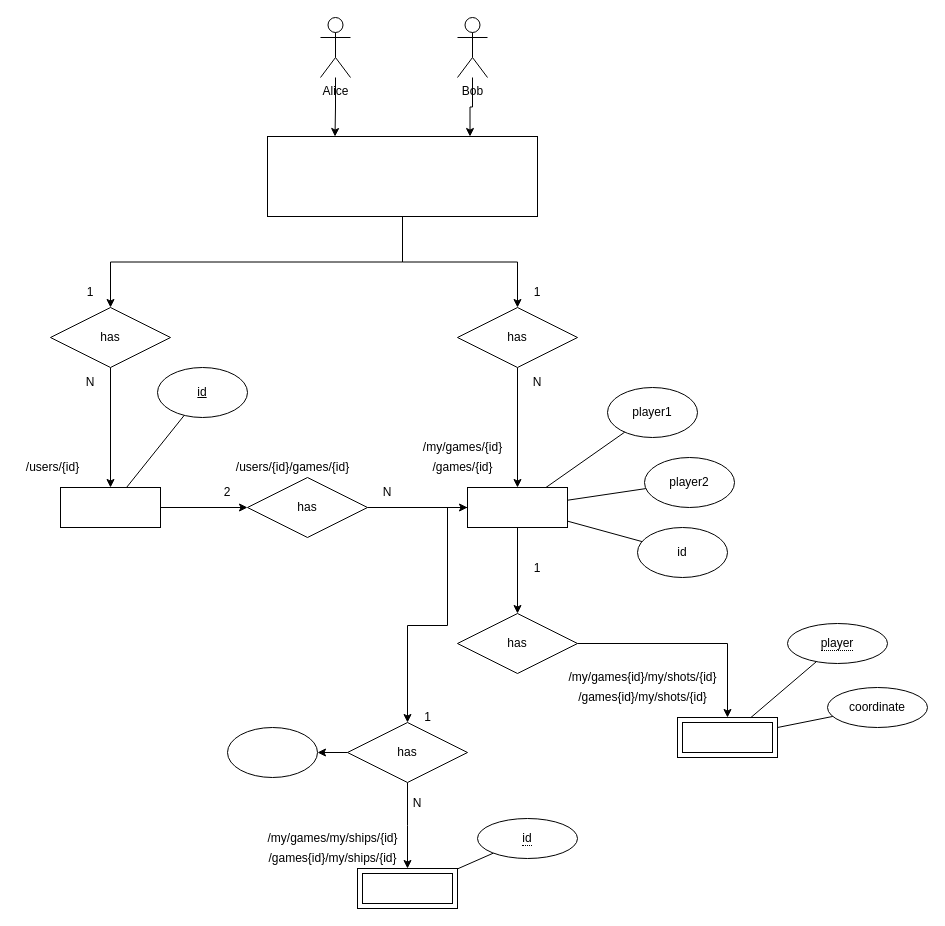
The diagram is 945 pixels wide and 926 high, and some of its shapes have lost their labels. The centre of each missing label's shape, as x and y in pixels:
"BATTLESHIPS API" belongs at pixel 402 176.
"confirmed" belongs at pixel 272 752.
"GAME" belongs at pixel 517 507.
"SHIP" belongs at pixel 407 888.
"SHOT" belongs at pixel 727 737.
"USER" belongs at pixel 110 507.
